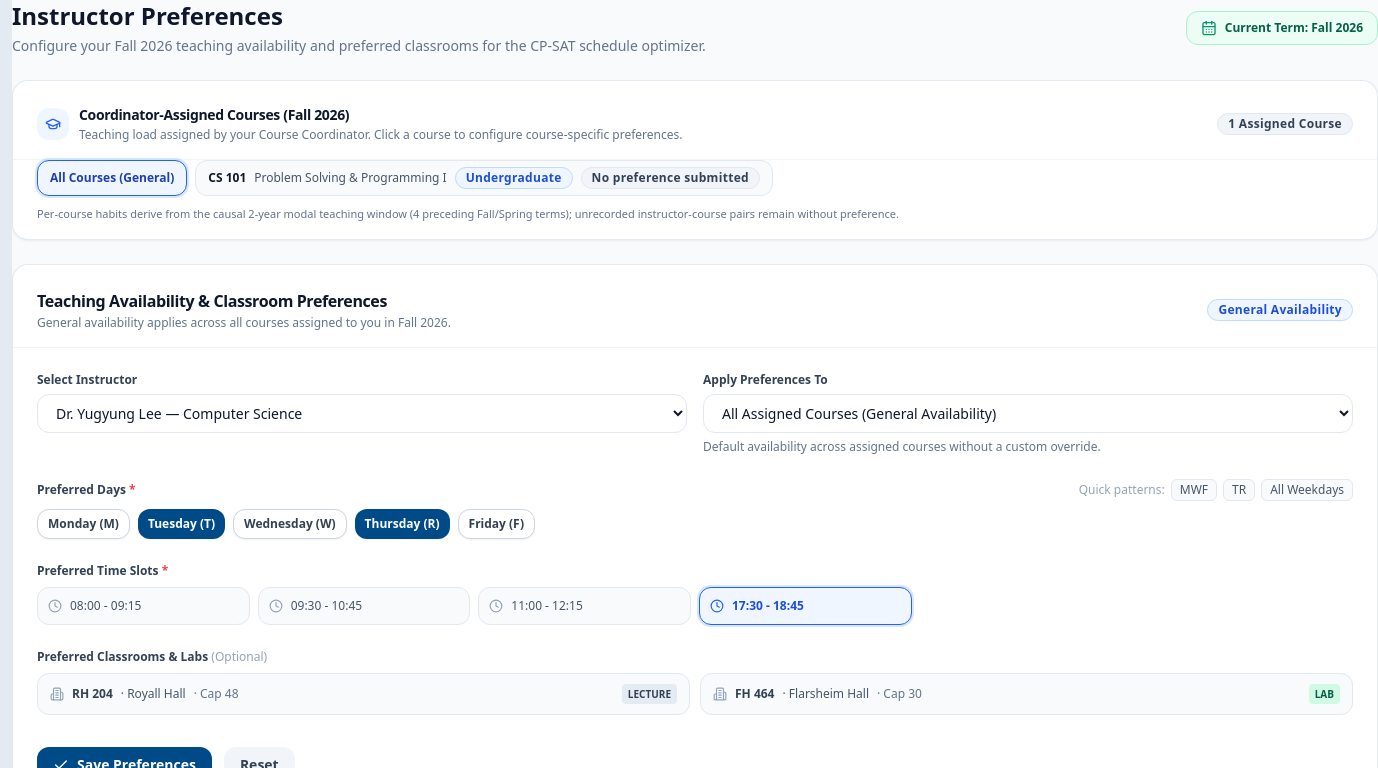
Test: PreferencesPage Component › submits general availability for semester_id 5 with course_id null and selected preferred_rooms, and supports Load & Edit and Delete
The width and height of the screenshot is (1378, 768).
Earlier steps of the test are not shown.
Click the button with test id "room-chip-RH 204" at (92, 693), box [37,672,690,714]
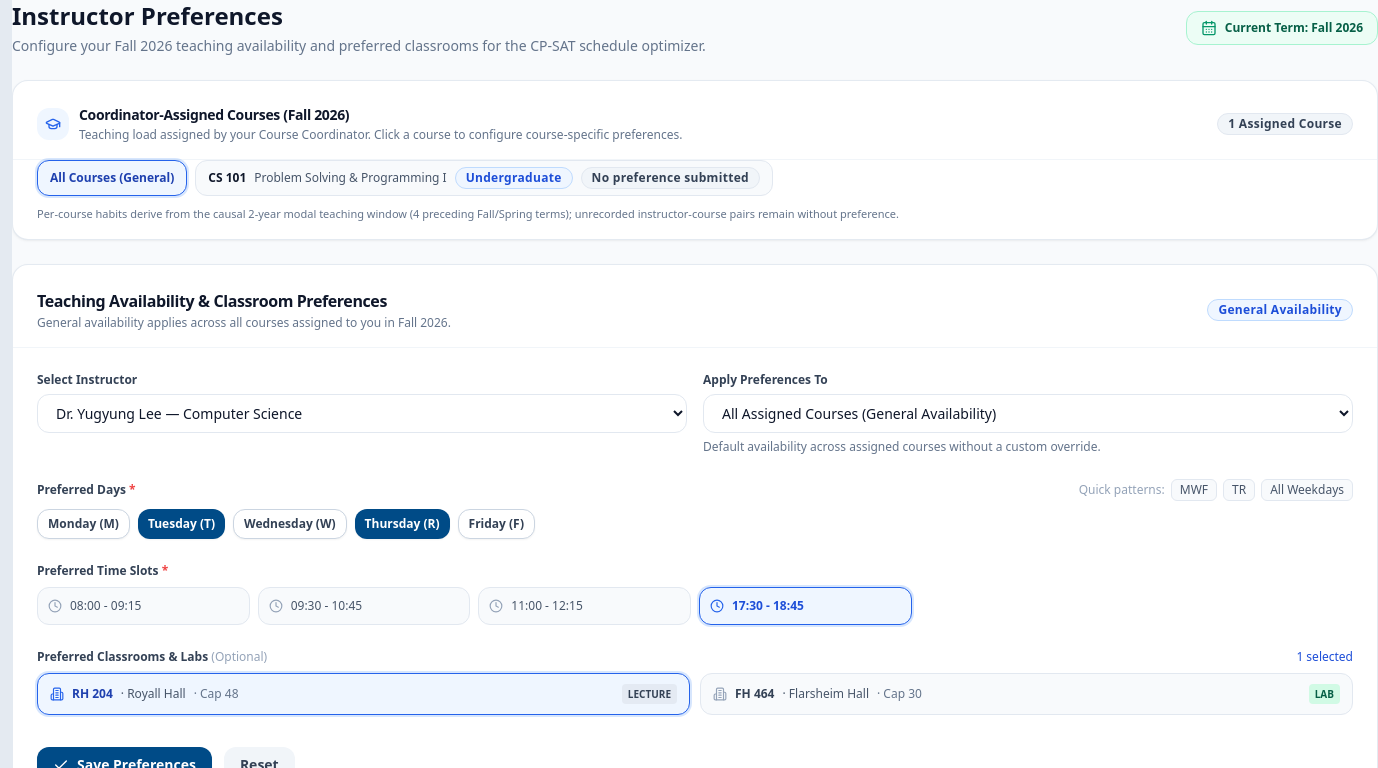
Click the button with test id "room-chip-FH 464" at (755, 693), box [700,672,1353,714]
(page scrolled)
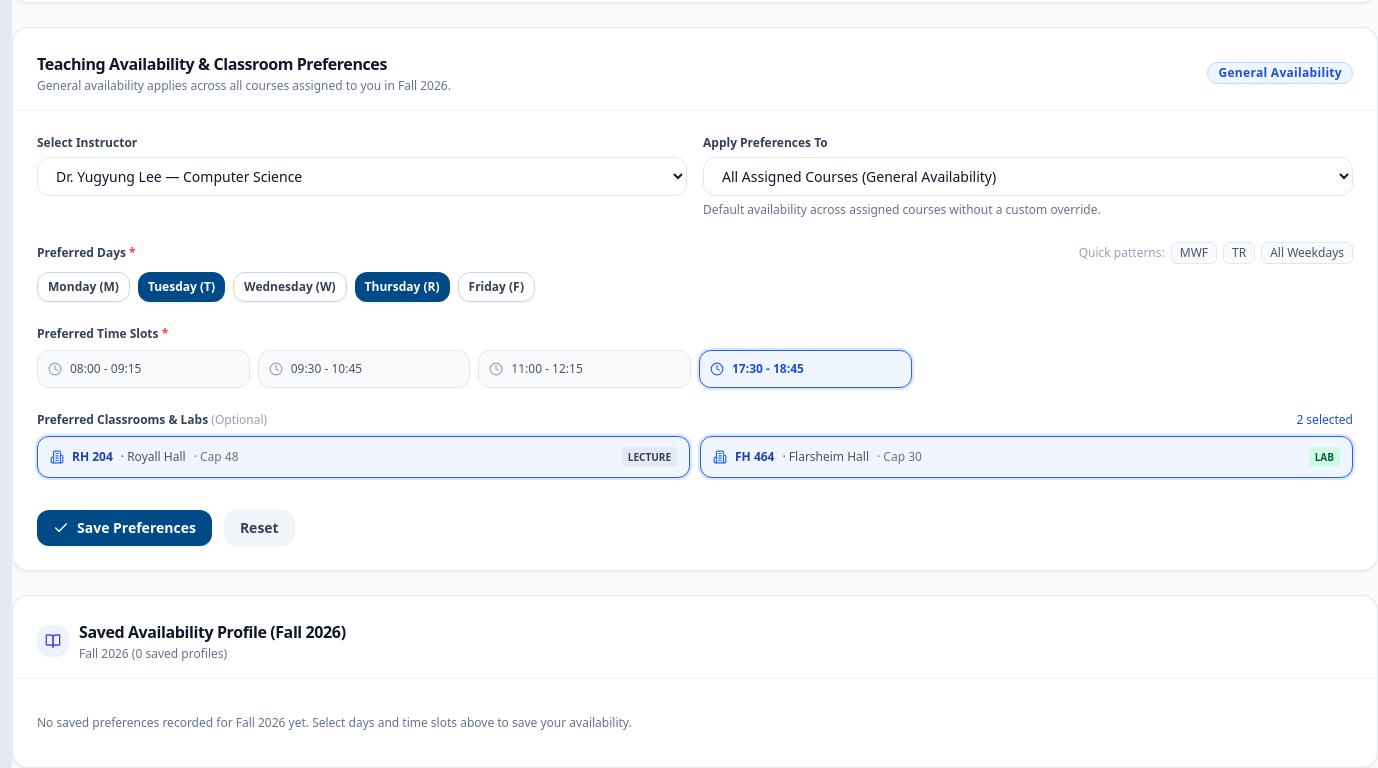
Click the button with test id "save-preferences-button" at (124, 528), box [37,510,212,546]
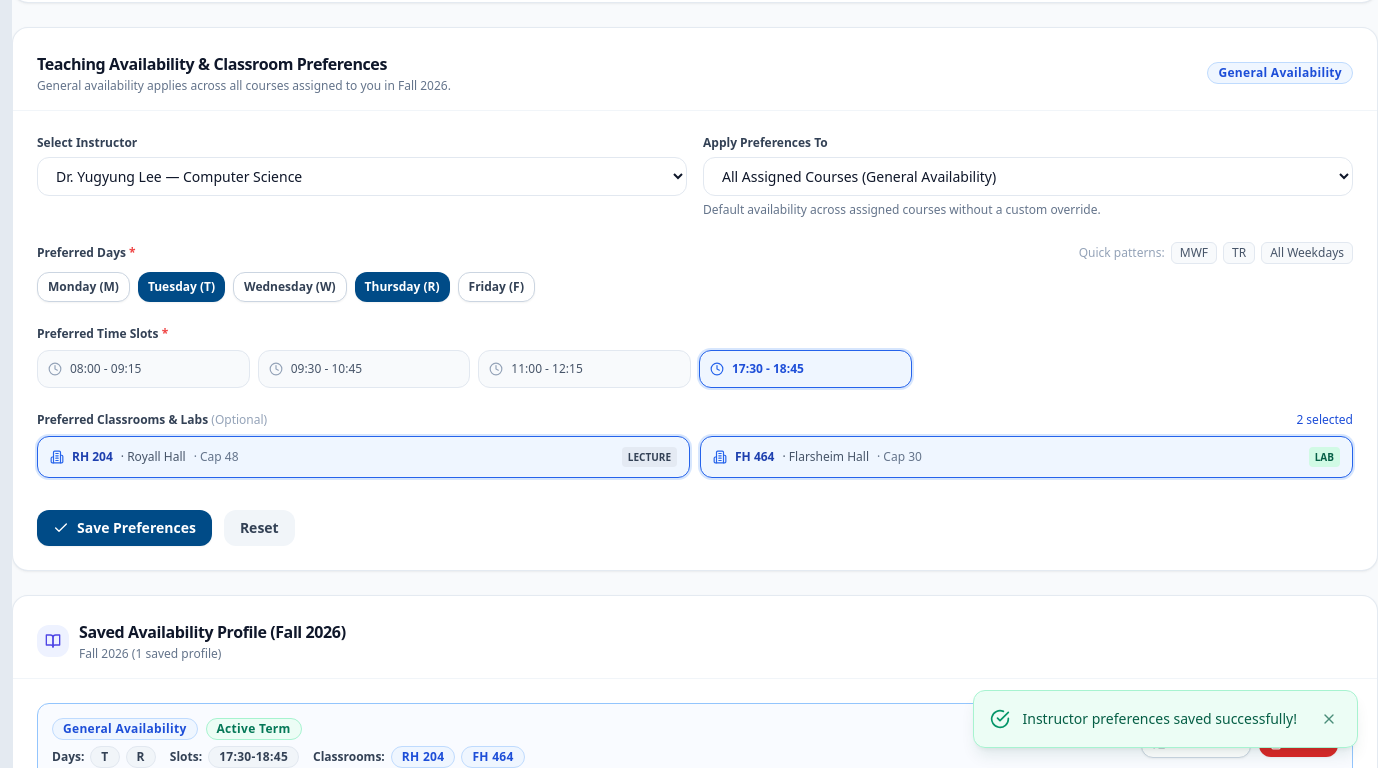
Now the text "Instructor preferences saved successfully!" is shown, box [1022,709,1305,729]
Now the button with test id "edit-pref-205" is shown, box [1142,728,1251,758]
Now the button with test id "delete-pref-205" is shown, box [1259,728,1338,756]
Click the button with test id "reset-preferences-button" at (259, 528), box [224,510,295,546]
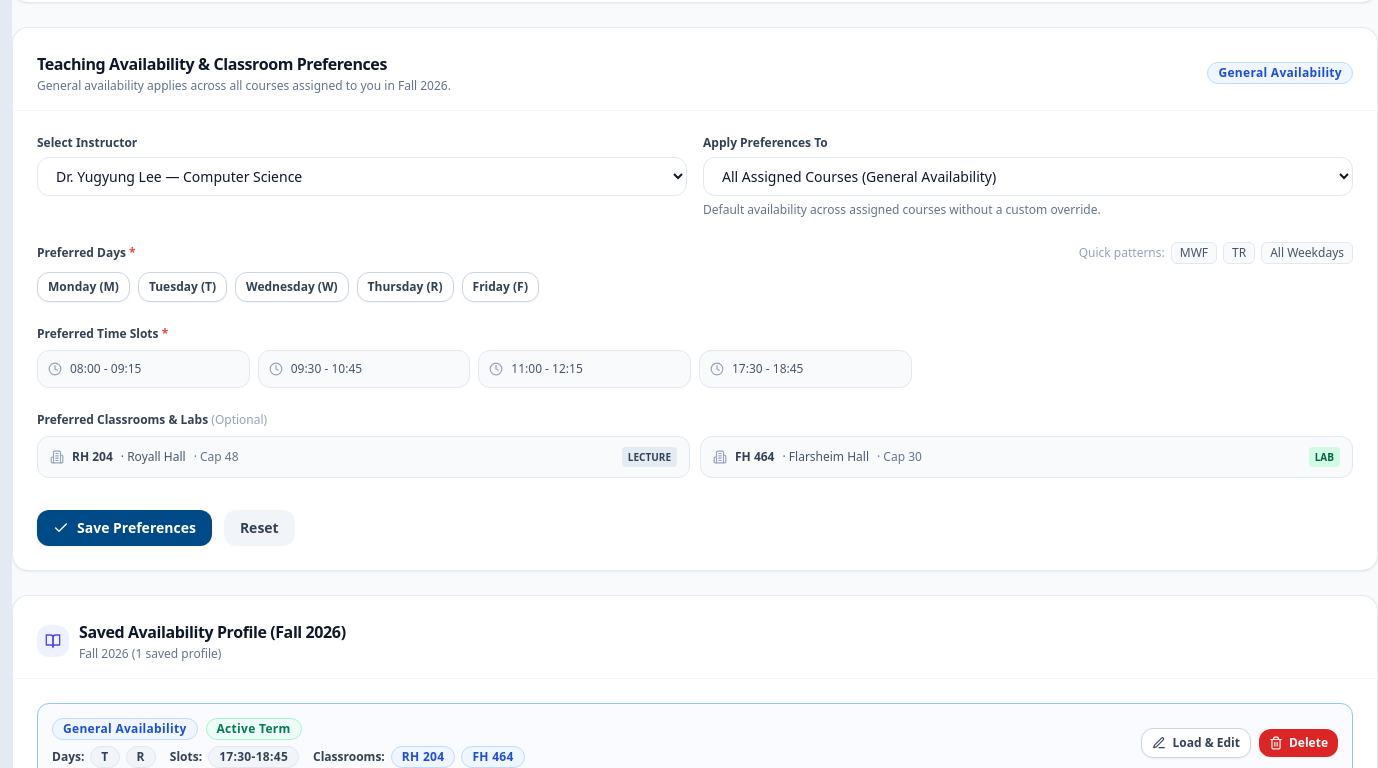
Now the button with test id "room-chip-RH 204" is not pressed, box [37,436,690,478]
Click the button with test id "edit-pref-205" at (1196, 742), box [1142,728,1251,758]
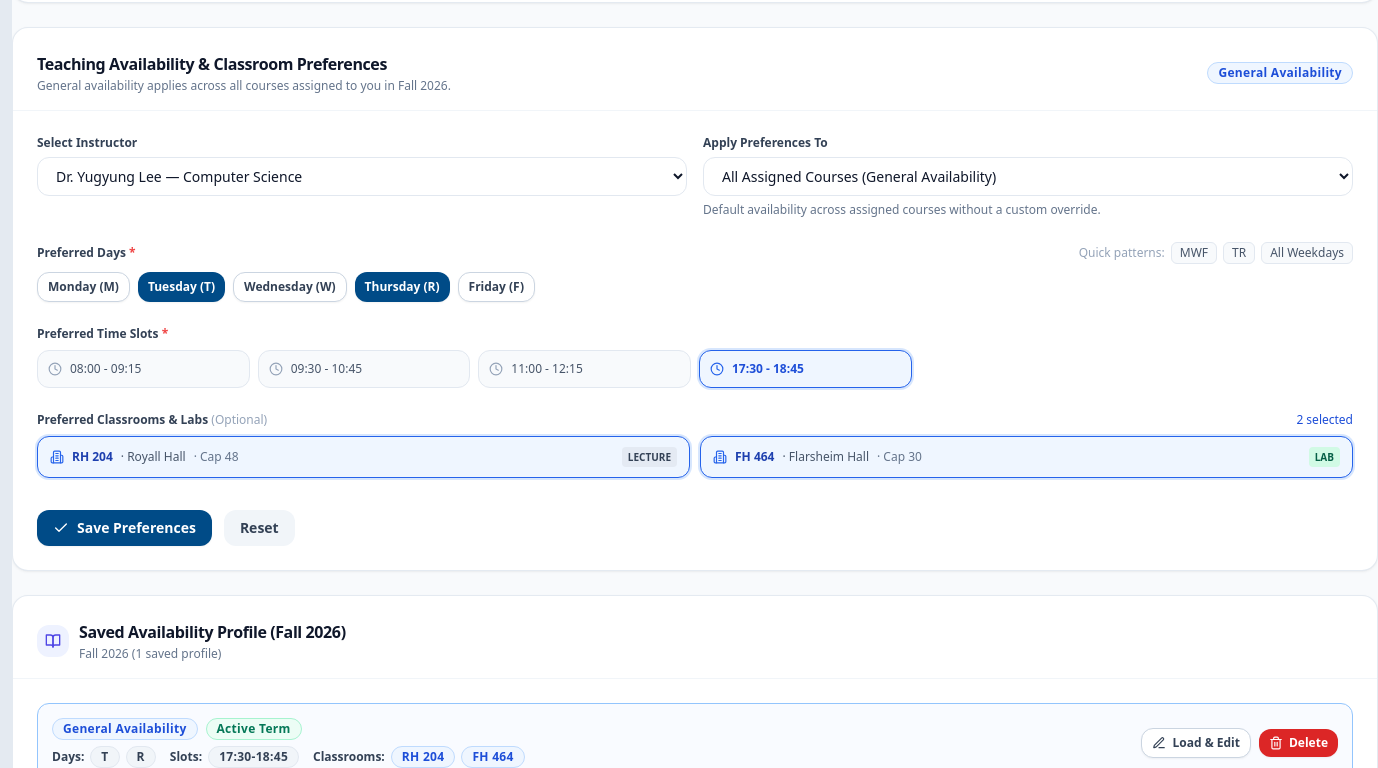
Now the button with test id "room-chip-RH 204" is pressed, box [37,436,690,478]
Click the button with test id "delete-pref-205" at (1298, 742), box [1259,728,1338,756]
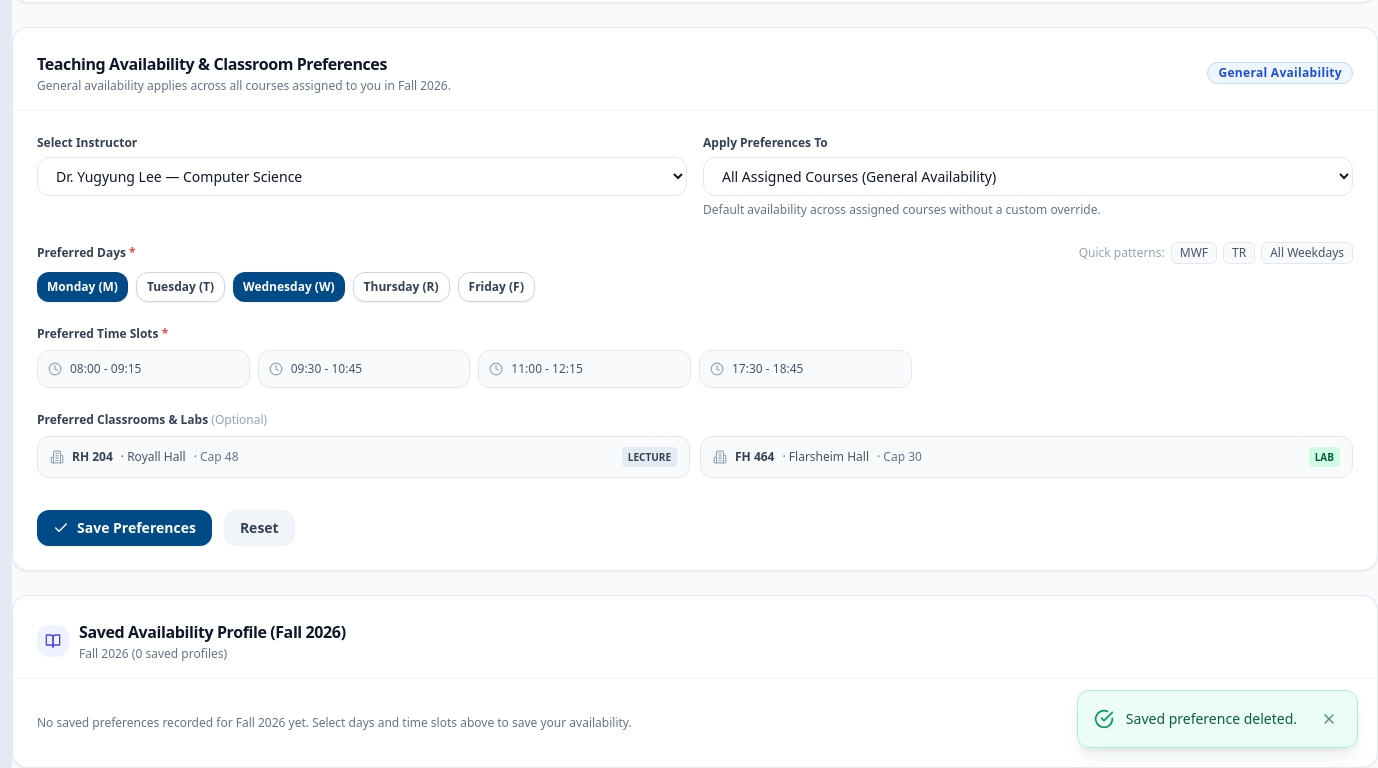
Now the button with test id "delete-pref-205" is gone
